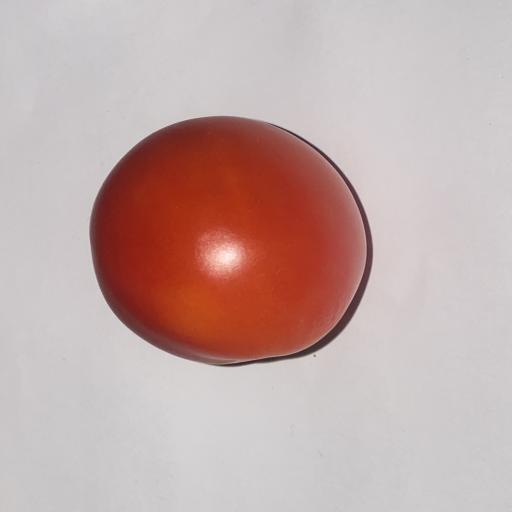ripe: (90, 116, 366, 364)
